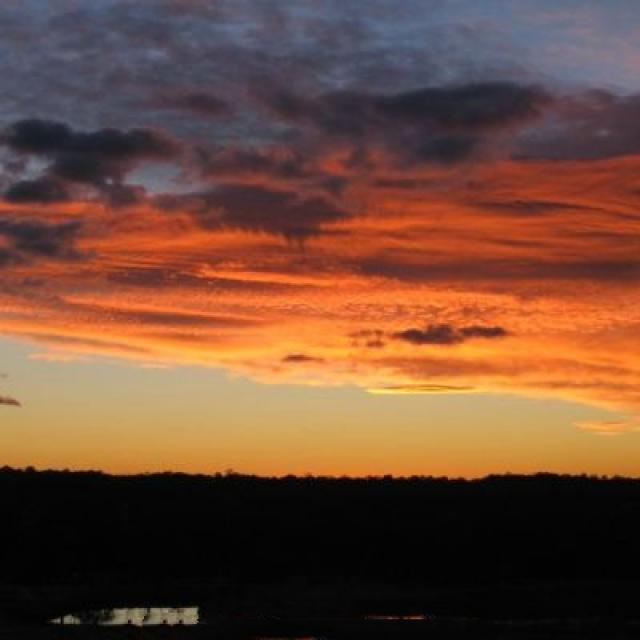As: (1, 21, 640, 433)
